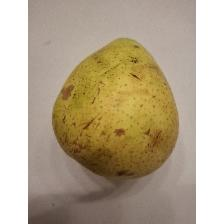Birne: (48, 34, 182, 182)
